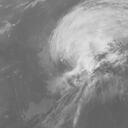cyclone: (50, 17, 114, 86)
